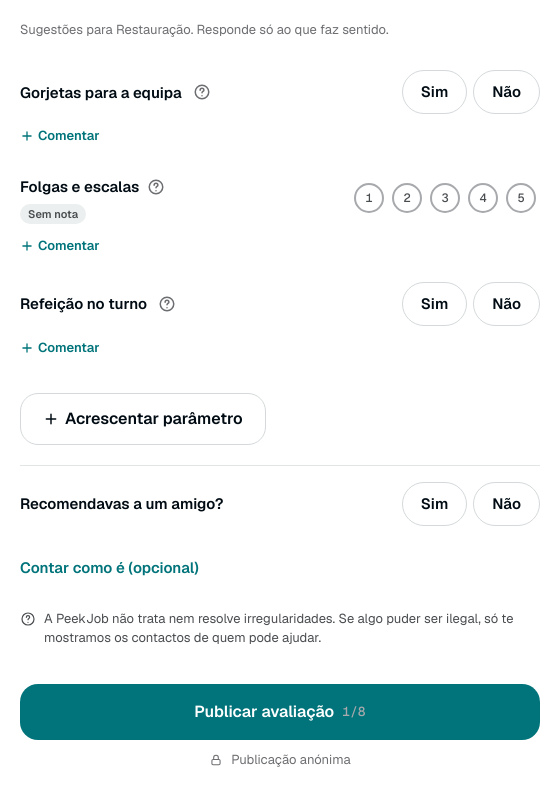
Scenario: Avaliar · notas e publicar (telemóvel, passo 2 de 3) › possível ilegalidade: cartão de apoio sem botão que tire a pessoa do fluxo
(page scrolled)
Click the button "Contar como é (opcional)".
click(109, 568)  # box [20, 546, 199, 590]
(page scrolled)
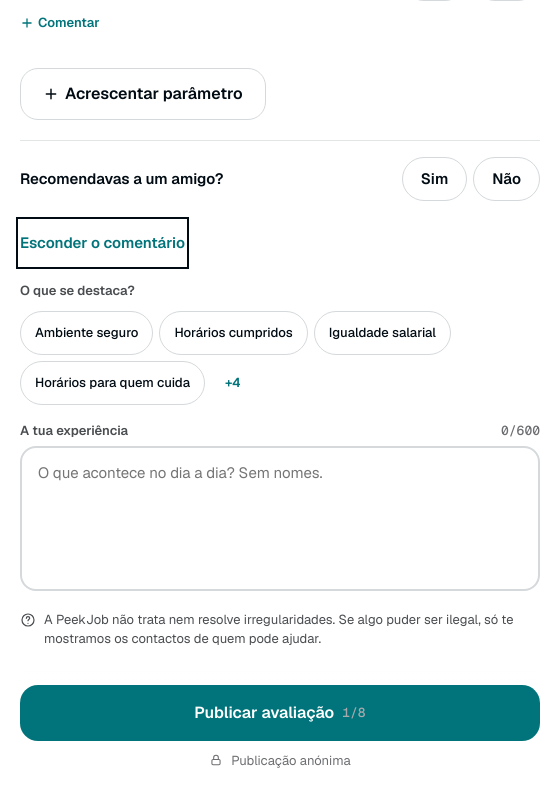
Type "O salário chega sempre atrasado." into the text box labelled "A tua experiência 0/600".
click(280, 519); type("O salário chega sempre atrasado.")  # box [20, 446, 540, 591]
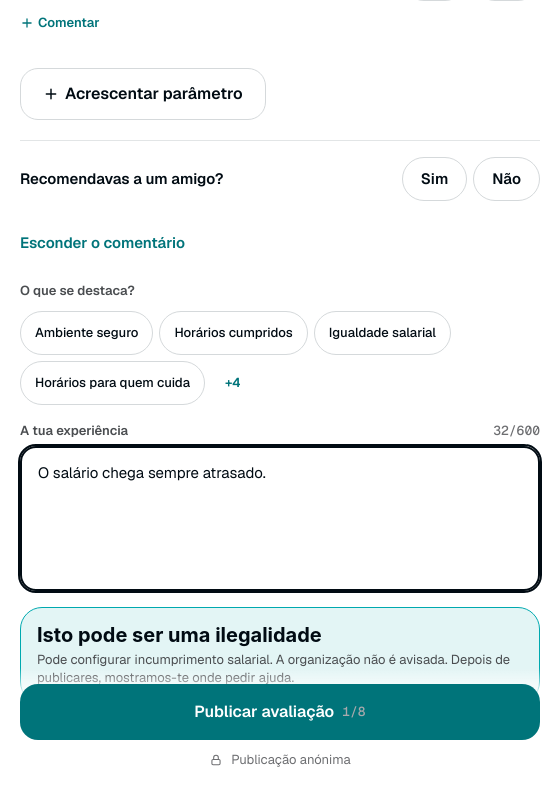
Expected: the text "A PeekJob não trata nem resolve irregularidades" is shown, [44, 724, 514, 760]
Expected: the text "Isto pode ser uma ilegalidade" is shown, [37, 623, 322, 647]
Expected: the text "Depois de publicares, mostramos-te onde pedir ajuda" is shown, [37, 651, 510, 686]
